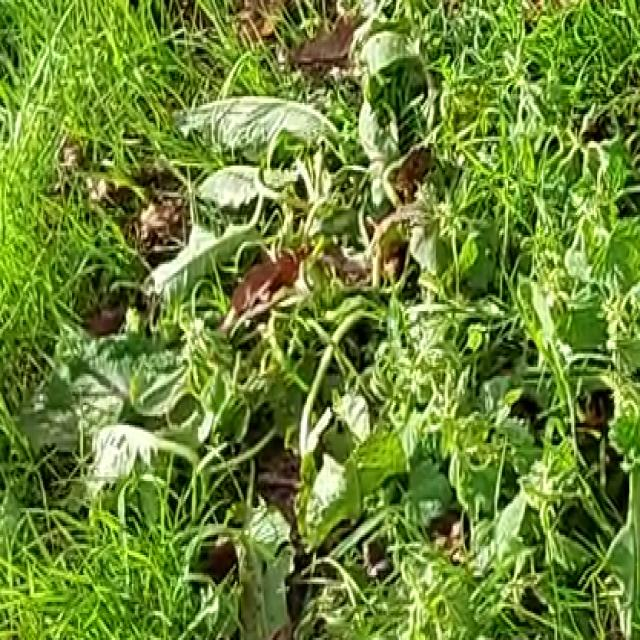organic waste: (0, 208, 316, 586), (164, 49, 464, 309)
